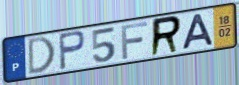5: (90, 25, 117, 64)
A: (180, 12, 216, 51)
D: (27, 34, 57, 77)
F: (120, 20, 150, 61)
P: (57, 29, 87, 72)
R: (149, 14, 184, 59)
